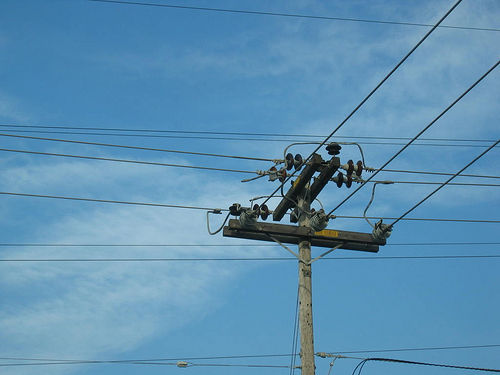pole: (220, 149, 392, 375)
wire: (330, 60, 497, 215), (313, 10, 455, 145), (2, 190, 495, 227), (16, 122, 493, 151), (101, 3, 498, 33), (387, 138, 497, 230), (3, 147, 264, 177), (5, 131, 276, 159), (0, 252, 492, 264), (1, 240, 497, 249), (1, 353, 289, 365), (362, 358, 497, 372), (376, 166, 498, 179), (379, 179, 498, 189)
